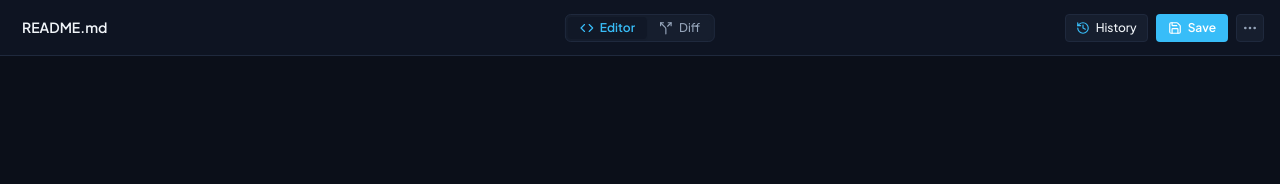
Test case: EditorHeader Responsive & Prioritized Actions › opens More actions dropdown menu and contains secondary utilities
The width and height of the screenshot is (1280, 184).
Expected: the text "Format Document" is not shown
# Open dropdown
Step 1. Click the button titled "More actions" → (1250, 28), box [1236,14,1264,42]
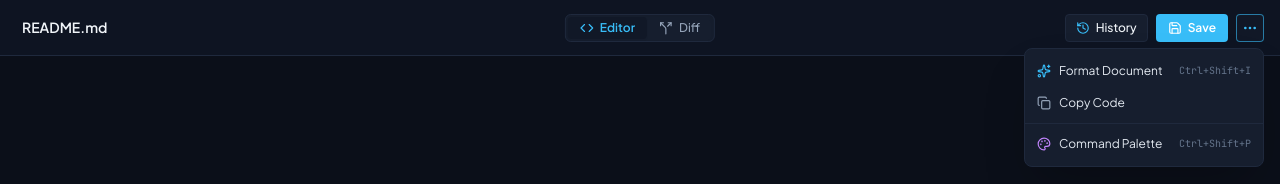
Now the text "Format Document" is shown
Now the text "Copy Code" is shown, box [1059,94,1125,110]
Now the text "Command Palette" is shown, box [1059,136,1162,152]
# Clicking Format Document triggers handler and closes dropdown
Step 2. Click the text "Format Document" → (1111, 70), box [1059,62,1163,78]
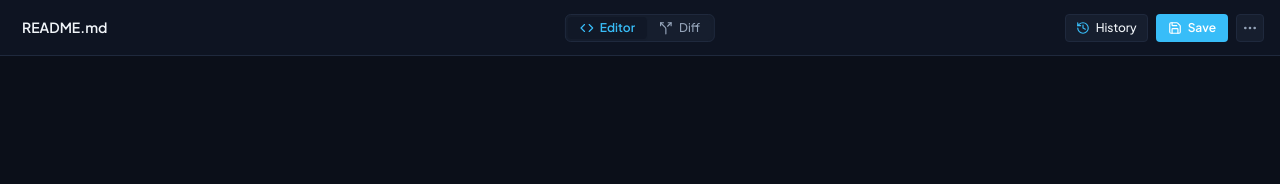
Now the button "Format Document" is gone
